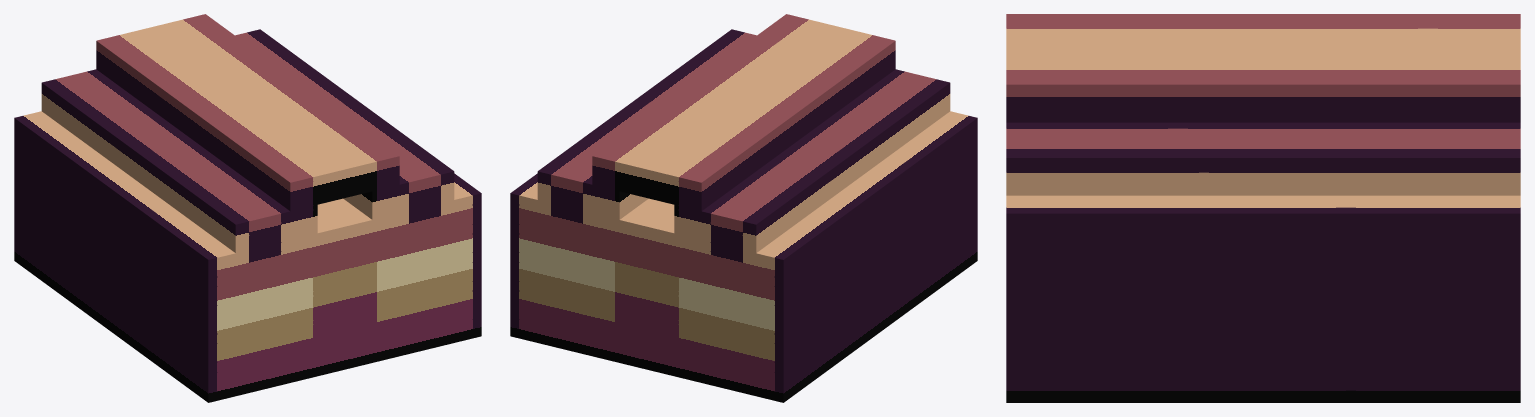
The model's file is chestclosed.glb.
3 renders of one model, left to right at view 1: azimuth 30°, elevation 25°; view 2: azimuth 150°, elevation 25°; view 3: azimuth 270°, elevation 25°, orthographic. The views are drawn at different scales.
Visible parts, largest first — view 1: smallchestclosed_voxel; view 2: smallchestclosed_voxel; view 3: smallchestclosed_voxel.
Boxes of the visible parts, <box> form: smallchestclosed_voxel: <box>14,14,481,402</box>; smallchestclosed_voxel: <box>510,14,977,402</box>; smallchestclosed_voxel: <box>1006,14,1520,402</box>.
Bounding box in the file's own units: 0.779 × 0.5453 × 0.9587.
Materials: 1 (1 with a texture image).
